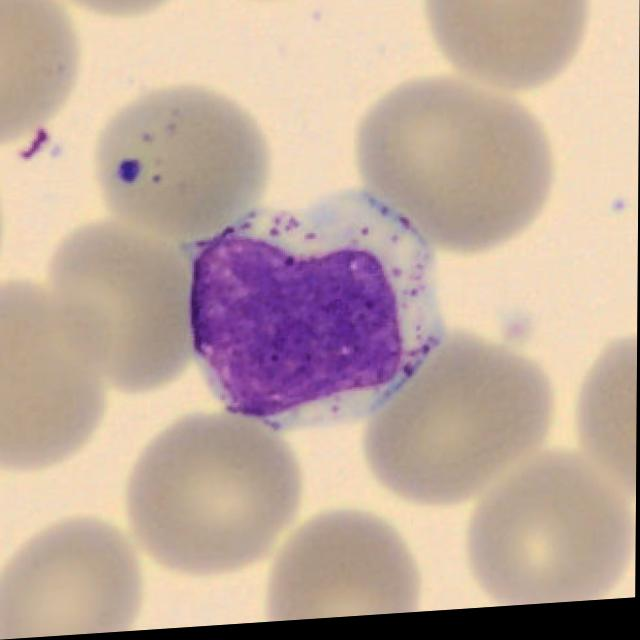Linfocito atipico: (189, 194, 448, 437)
